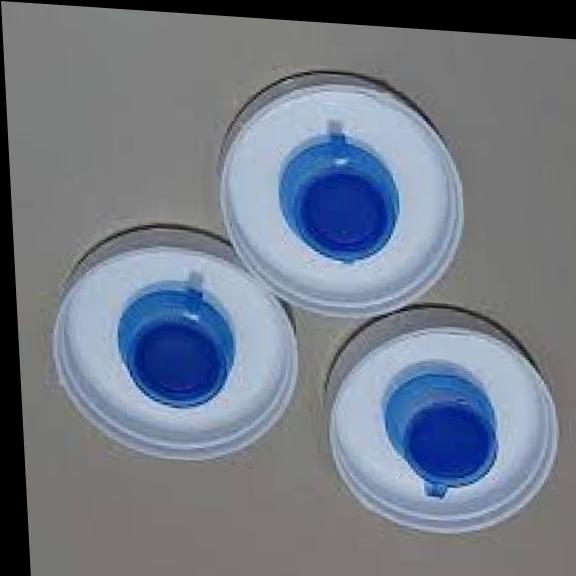Plastik: (215, 67, 464, 317), (49, 220, 298, 460), (321, 303, 559, 534)
